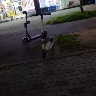beam: (19, 8, 50, 46)
gcooter: (31, 11, 57, 60)
